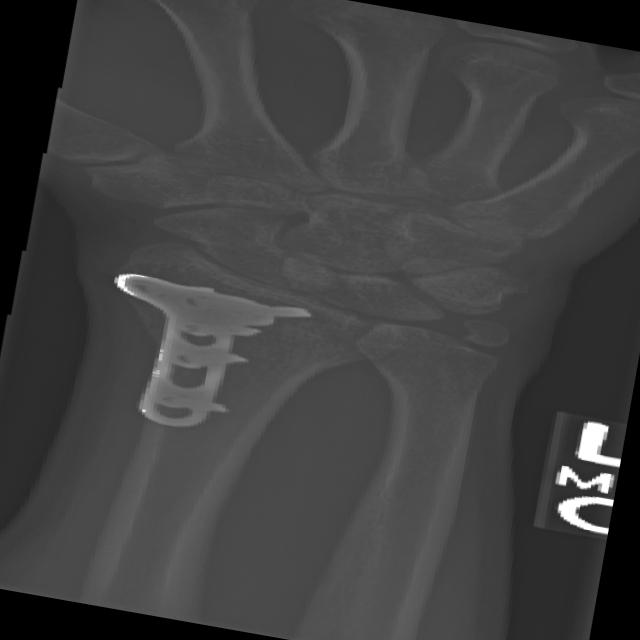wrist positive: (229, 287, 440, 400)
